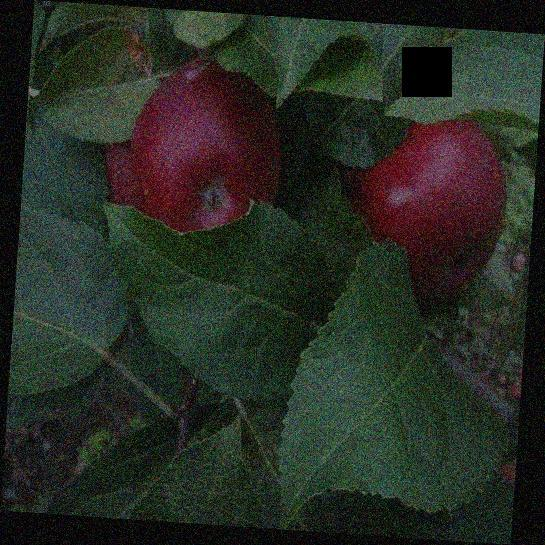red apple: (335, 109, 512, 310), (110, 54, 288, 239)
